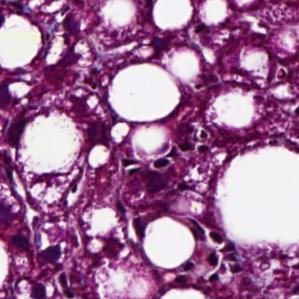inflammation: (192, 220, 243, 288), (114, 142, 185, 180), (176, 125, 212, 156)
